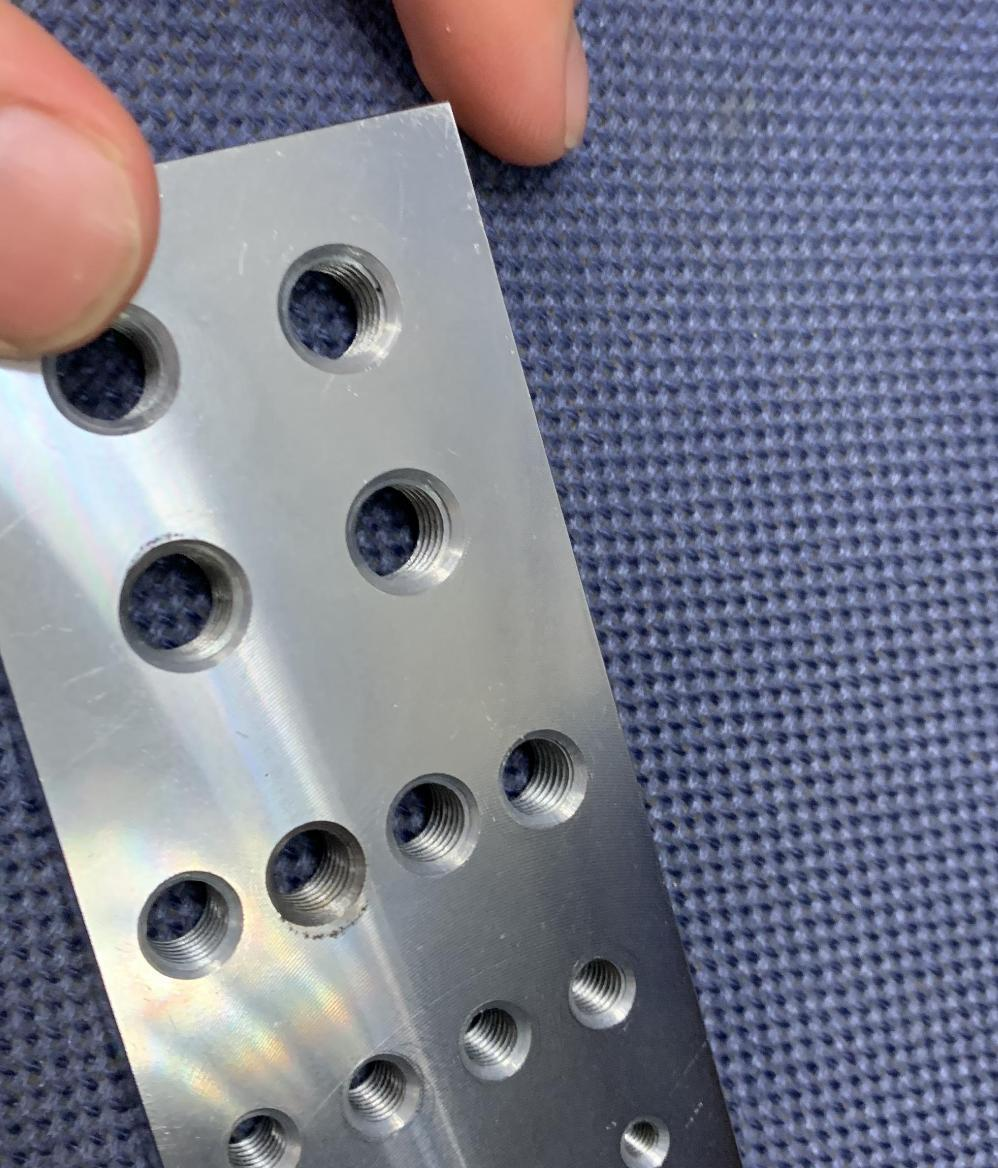hole: (101, 515, 266, 681), (33, 304, 195, 444), (268, 232, 414, 378), (341, 446, 470, 602), (116, 856, 254, 992), (262, 812, 380, 954), (378, 756, 490, 892), (486, 700, 589, 838), (330, 1038, 434, 1158), (452, 982, 544, 1102), (558, 943, 652, 1039), (215, 1091, 310, 1168), (603, 1104, 679, 1168)
